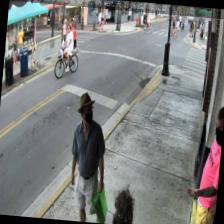person: (65, 91, 111, 223), (183, 102, 224, 224)
